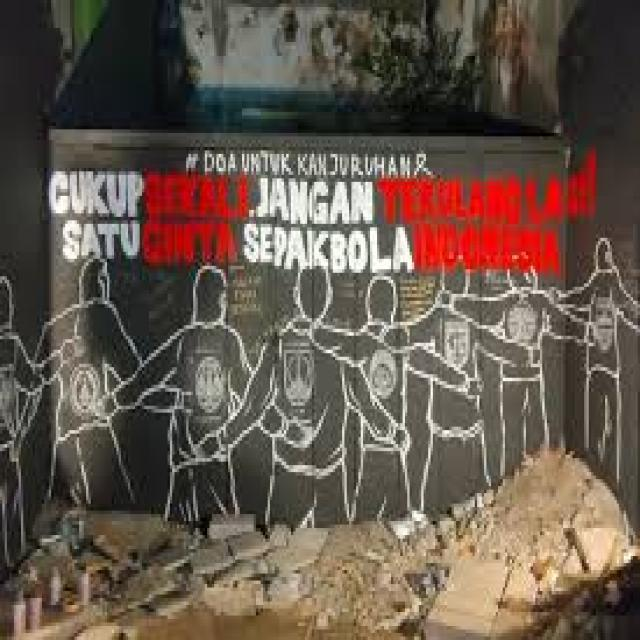-: (0, 240, 640, 568), (49, 146, 596, 268)
